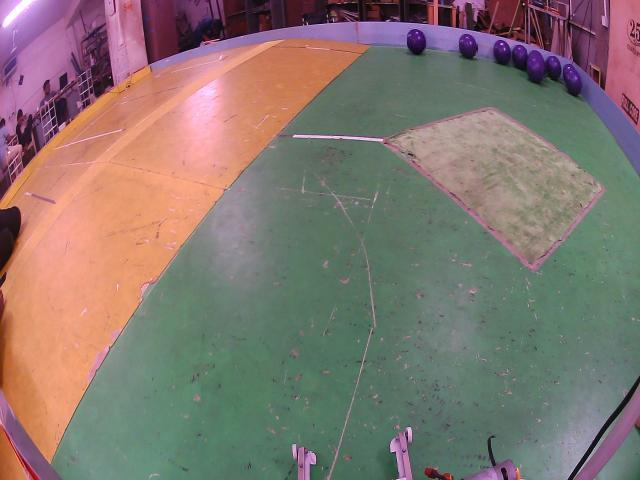jambhalya: (527, 50, 545, 83), (407, 28, 427, 55), (494, 40, 511, 65), (460, 34, 477, 58), (513, 45, 529, 70), (546, 56, 561, 79), (565, 75, 581, 95), (564, 65, 576, 76)
